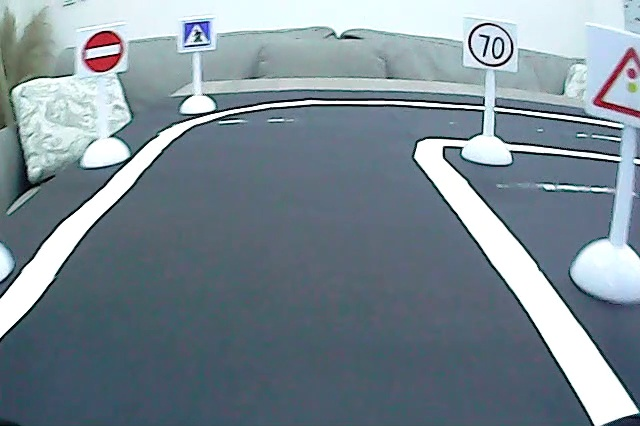do not enter: (75, 25, 128, 76)
pedestrian crossing: (181, 19, 214, 51)
red light: (585, 42, 640, 121)
speed limit 70: (461, 20, 518, 69)
